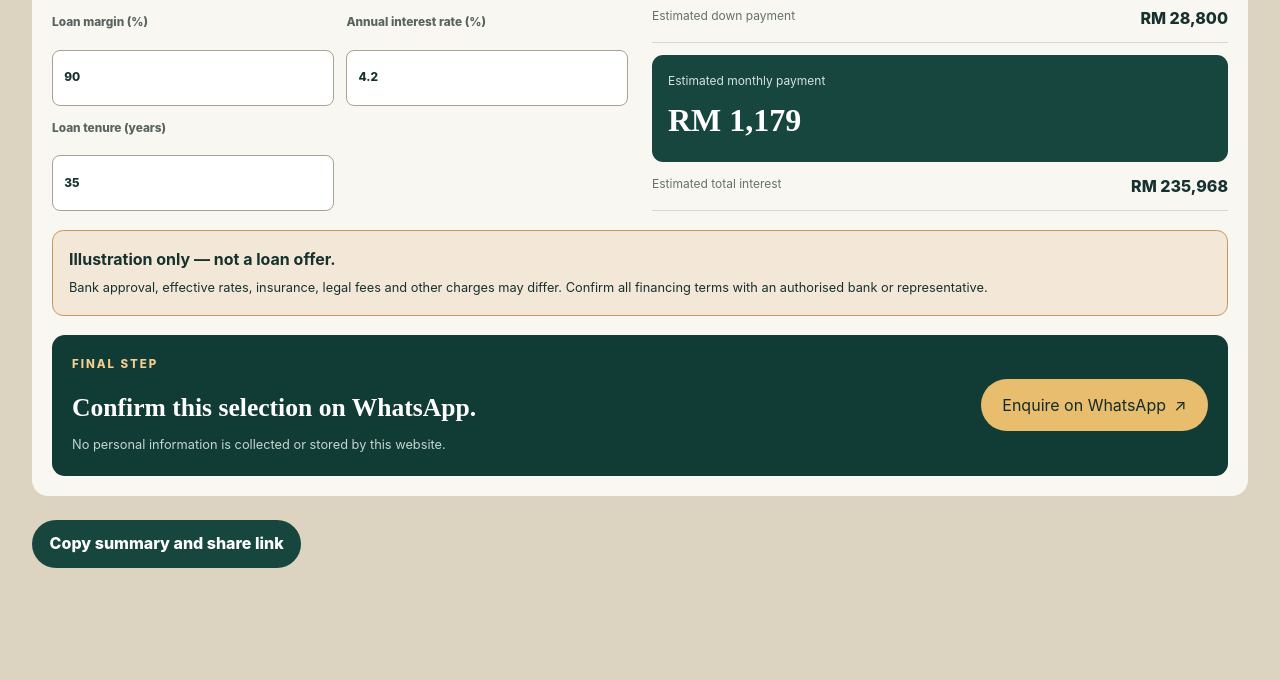
Scenario: GuidedSelector › copies the summary with a validated share URL
(page scrolled)
Click the button "Copy summary and share link".
click(167, 544)  # box [32, 520, 301, 568]
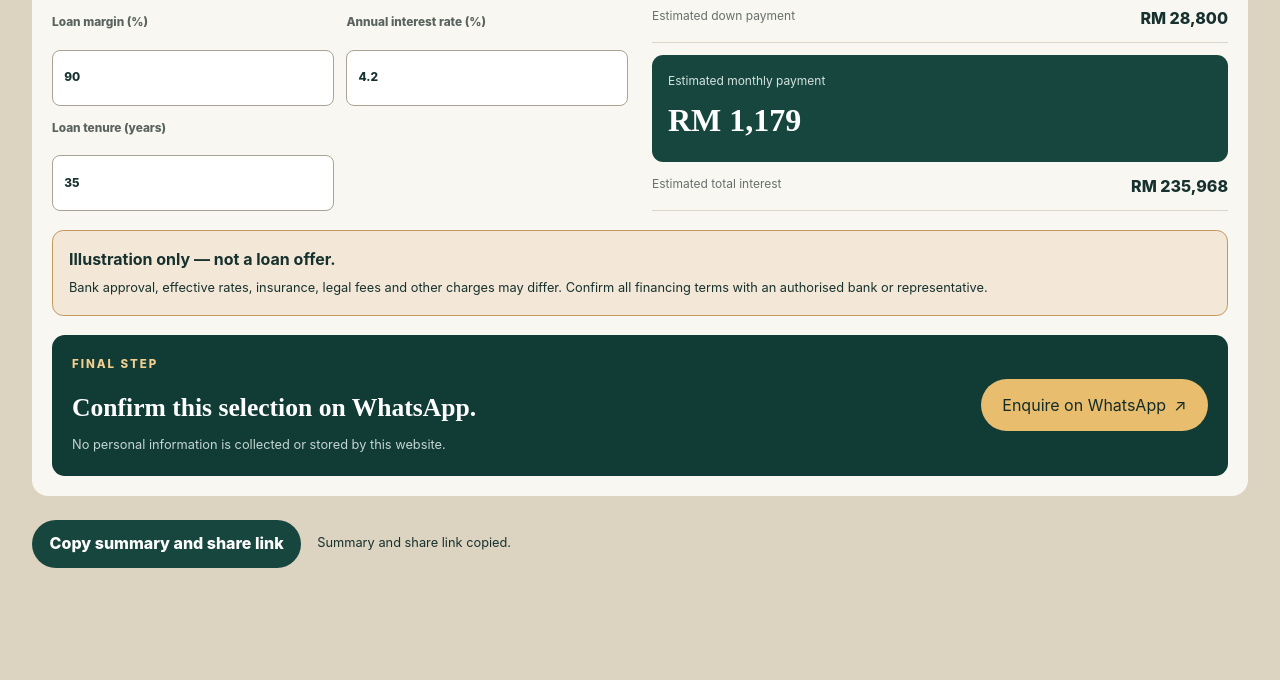
Expected: the text "Summary and share link copied." is shown, [317, 534, 511, 554]
